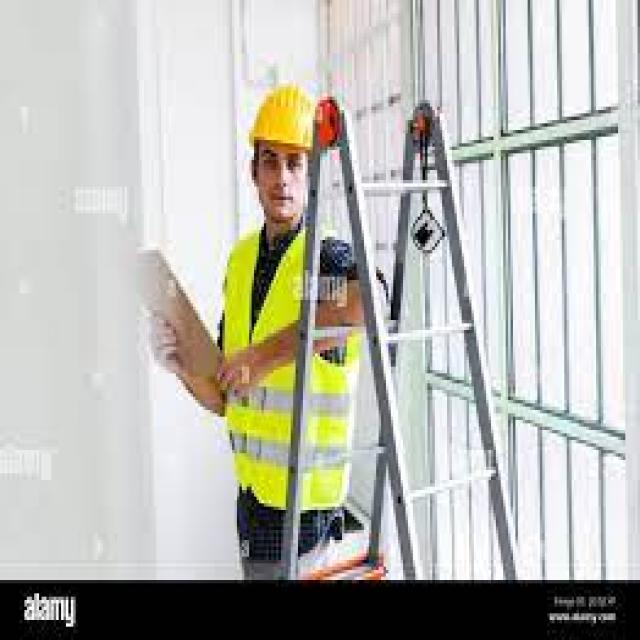Reflective-Jacket: (210, 216, 364, 526)
Safety-Helmet: (240, 73, 328, 167)
